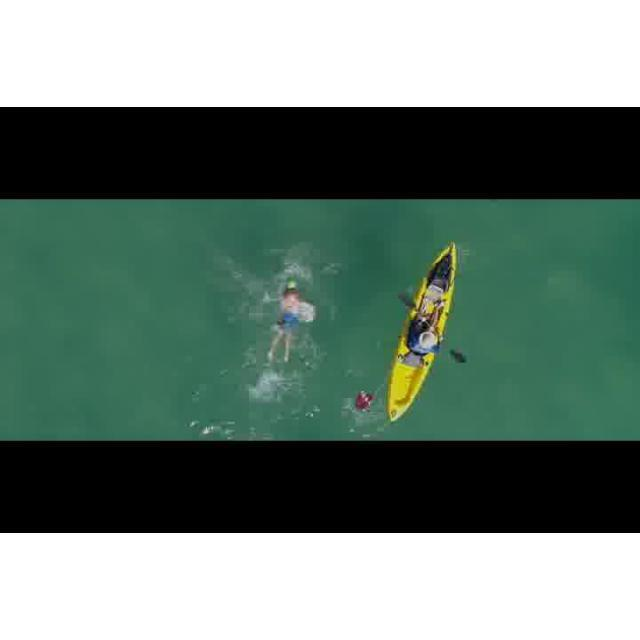human: (262, 277, 318, 365)
